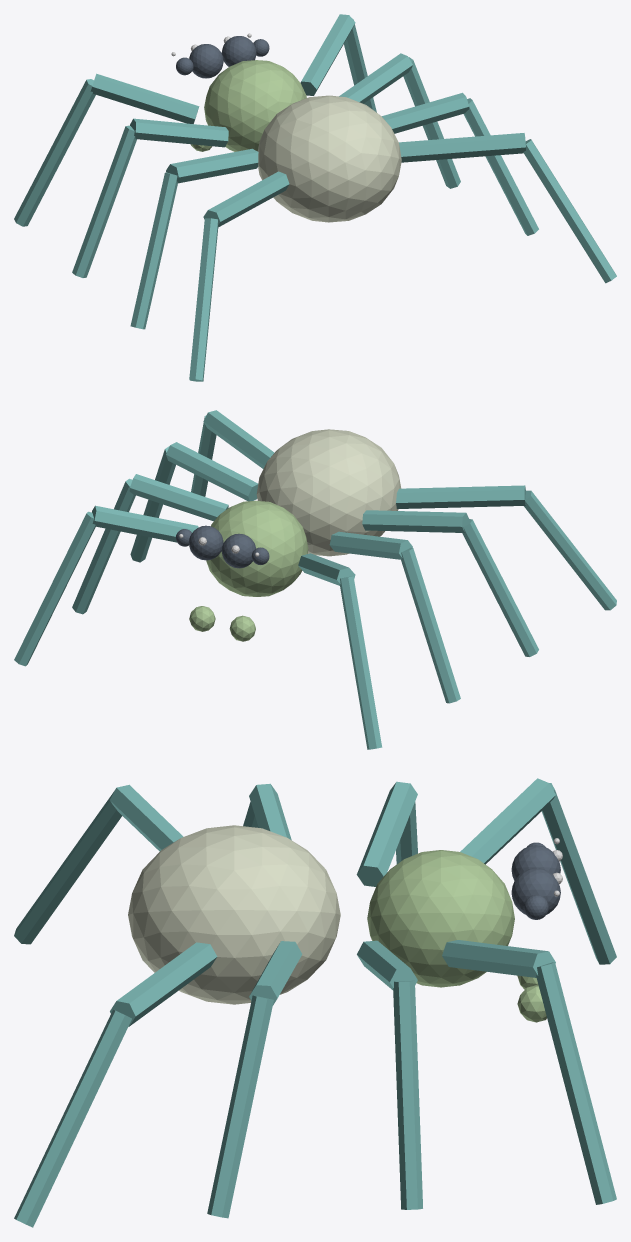
File: spiderling.glb
3 views of the same model, one above another, from view 1: azimuth 30°, elevation 25°; view 2: azimuth 150°, elevation 25°; view 3: azimuth 270°, elevation 25° (orthographic). The views are drawn at different scales.
Visible parts, largest first — view 1: Abdomen, Cephalothorax, Leg_1_3_A, Leg_-1_0_B, Leg_-1_1_B, Leg_-1_2_B, Leg_-1_3_B, Leg_1_3_B, Leg_-1_0_A, Leg_-1_1_A, Leg_-1_2_A, Leg_1_2_B (+8 smaller); view 2: Abdomen, Cephalothorax, Leg_-1_0_B, Leg_-1_3_A, Leg_-1_1_B, Leg_1_0_B, Leg_-1_2_B, Leg_-1_3_B, Leg_-1_2_A, Leg_1_2_A, Leg_1_1_A, Leg_1_0_A (+10 smaller); view 3: Abdomen, Cephalothorax, Leg_1_0_B, Leg_1_1_B, Leg_1_3_B, Leg_1_2_B, Leg_-1_3_B, Leg_-1_0_B, Leg_1_3_A, Leg_-1_1_A, Leg_1_0_A, Leg_-1_0_A (+8 smaller).
Part boxes in pixels (x1,y1,x2,y2): Abdomen: (257,95,401,222); Cephalothorax: (204,60,306,151); Leg_1_3_A: (399,133,525,162); Leg_-1_0_B: (14,79,95,226); Leg_-1_1_B: (72,125,136,277); Leg_-1_2_B: (130,172,177,329); Leg_-1_3_B: (189,218,218,381); Leg_1_3_B: (523,139,616,283); Leg_-1_0_A: (90,73,199,123); Leg_-1_1_A: (130,118,228,147); Leg_-1_2_A: (166,148,258,183); Leg_1_2_B: (463,98,538,235); Abdomen: (256,429,401,556); Cephalothorax: (206,500,308,596); Leg_-1_0_B: (339,576,382,749); Leg_-1_3_A: (396,485,525,508); Leg_-1_1_B: (401,547,460,703); Leg_1_0_B: (14,511,95,666); Leg_-1_2_B: (462,519,538,656); Leg_-1_3_B: (524,490,616,610); Leg_-1_2_A: (362,510,468,532); Leg_1_2_A: (166,442,258,501); Leg_1_1_A: (129,474,228,521); Leg_1_0_A: (92,505,198,542); Abdomen: (128,825,340,1004); Cephalothorax: (367,850,514,987); Leg_1_0_B: (536,962,616,1204); Leg_1_1_B: (393,980,422,1209); Leg_1_3_B: (14,1009,131,1227); Leg_1_2_B: (207,995,273,1218); Leg_-1_3_B: (14,790,121,944); Leg_-1_0_B: (541,783,616,964); Leg_1_3_A: (110,942,217,1026); Leg_-1_1_A: (356,781,417,886); Leg_1_0_A: (442,940,555,977); Leg_-1_0_A: (460,778,555,864).
Bounding box in the file's own units: 1.69 × 0.6655 × 1.46.
